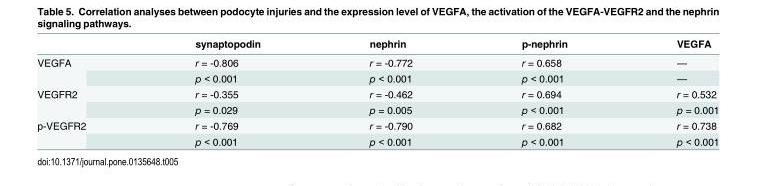table: (36, 37, 718, 147)
table column: (139, 37, 314, 147), (466, 37, 621, 147), (314, 37, 466, 147), (36, 37, 139, 147), (621, 37, 718, 147)
table column header: (36, 37, 718, 52)
table row: (36, 52, 718, 70), (36, 85, 718, 101), (36, 101, 718, 117), (36, 117, 718, 133), (36, 37, 718, 52), (36, 70, 718, 85), (36, 133, 718, 147)
table spanning cell: (36, 52, 139, 85), (36, 85, 139, 117), (36, 117, 139, 147)
